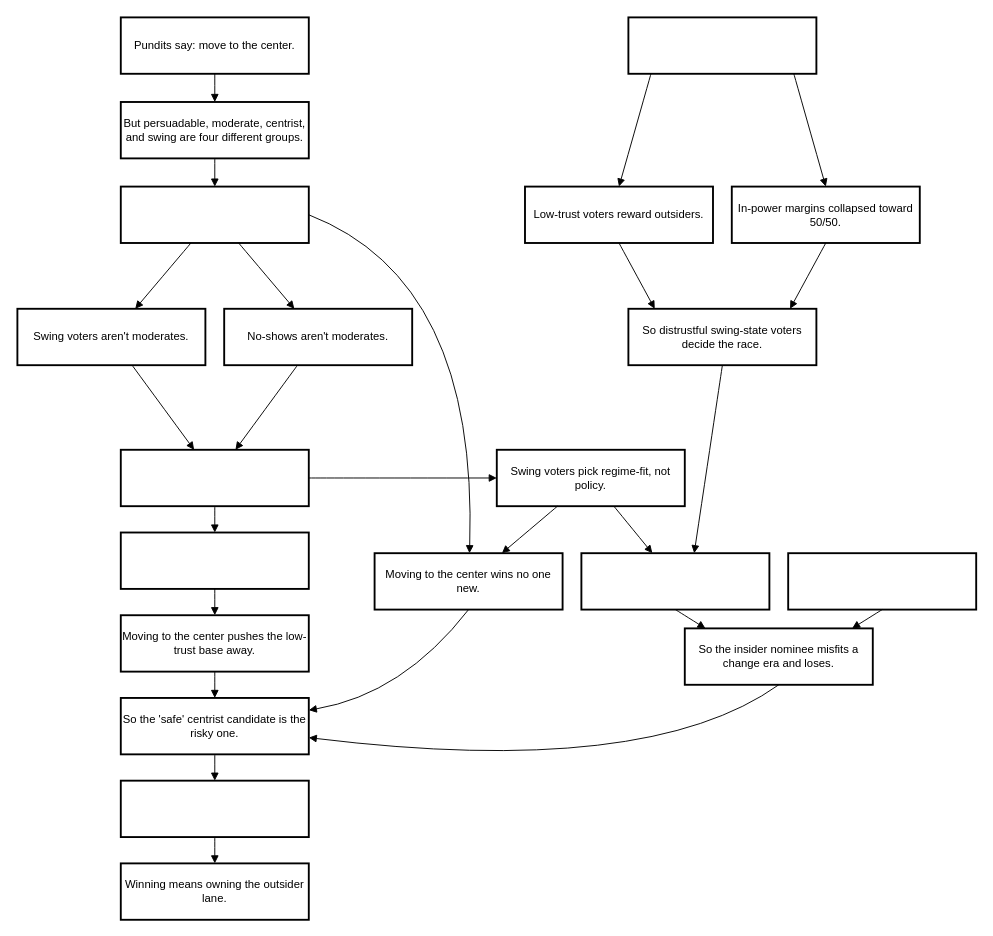
The diagram is 993 pixels wide and 936 high, and some of its shapes have lost their labels. The box of each missing label's shape, as (x1, y1, x2, y2) in pixels:
Electability is regime-fit, not a fixed trait.: (119, 779, 309, 838)
No-shows need stakes and regime-fit, not policy or charm.: (119, 531, 309, 589)
Parties nominate insiders.: (787, 552, 977, 610)
The courtable moderate middle barely exists.: (119, 185, 309, 243)
The voters in play skew low-trust.: (119, 448, 309, 507)
They back the outsider and decide the cycle.: (580, 552, 770, 610)
Trust collapsed.: (627, 16, 817, 74)
